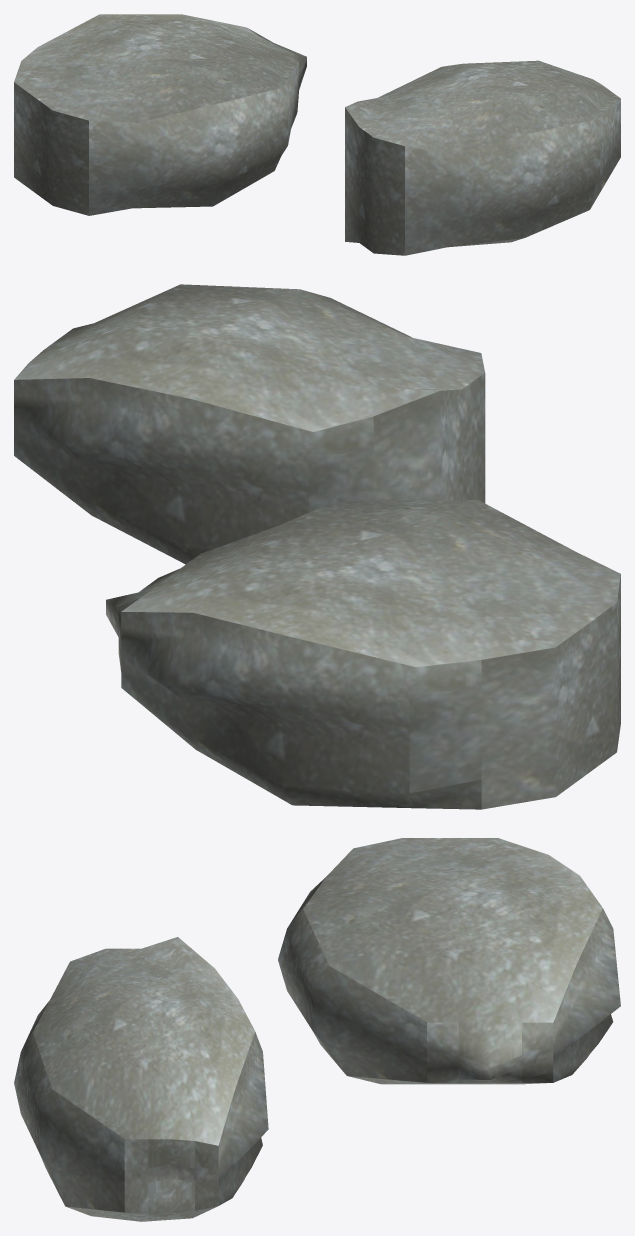
Rendered from huashi.FBX.
The picture shows the model from 3 angles, top to bottom: view 1: azimuth 30°, elevation 25°; view 2: azimuth 150°, elevation 25°; view 3: azimuth 270°, elevation 25°; orthographic projection. The views are drawn at different scales.
Parts seen in each view (by area): view 1: Box002, Box003; view 2: Box002, Box003; view 3: Box002, Box003.
Part boxes in pixels (<box>): Box002: <box>14,14,306,215</box>; Box003: <box>345,60,620,255</box>; Box002: <box>106,500,620,809</box>; Box003: <box>14,284,485,564</box>; Box002: <box>278,838,620,1084</box>; Box003: <box>14,937,268,1221</box>.
Size of the model in its own units: 311 by 98.53 by 286.
1 material, 1 textured.
